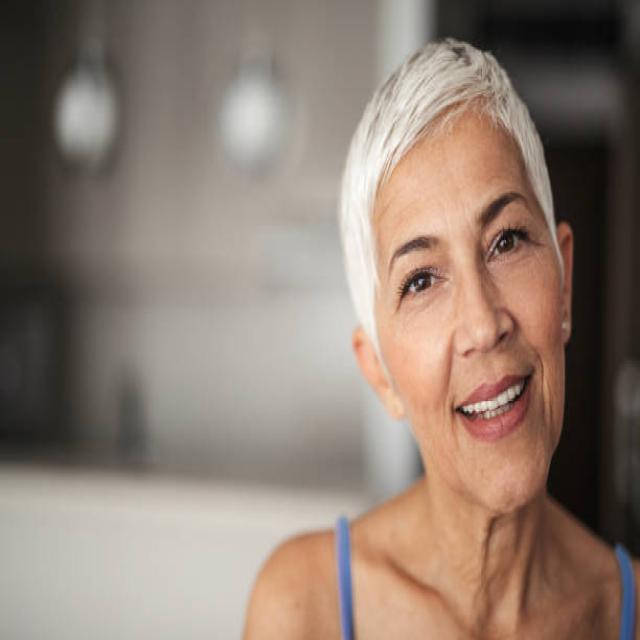Dry-Skin: (396, 136, 500, 202), (526, 259, 573, 398), (461, 445, 552, 513)
